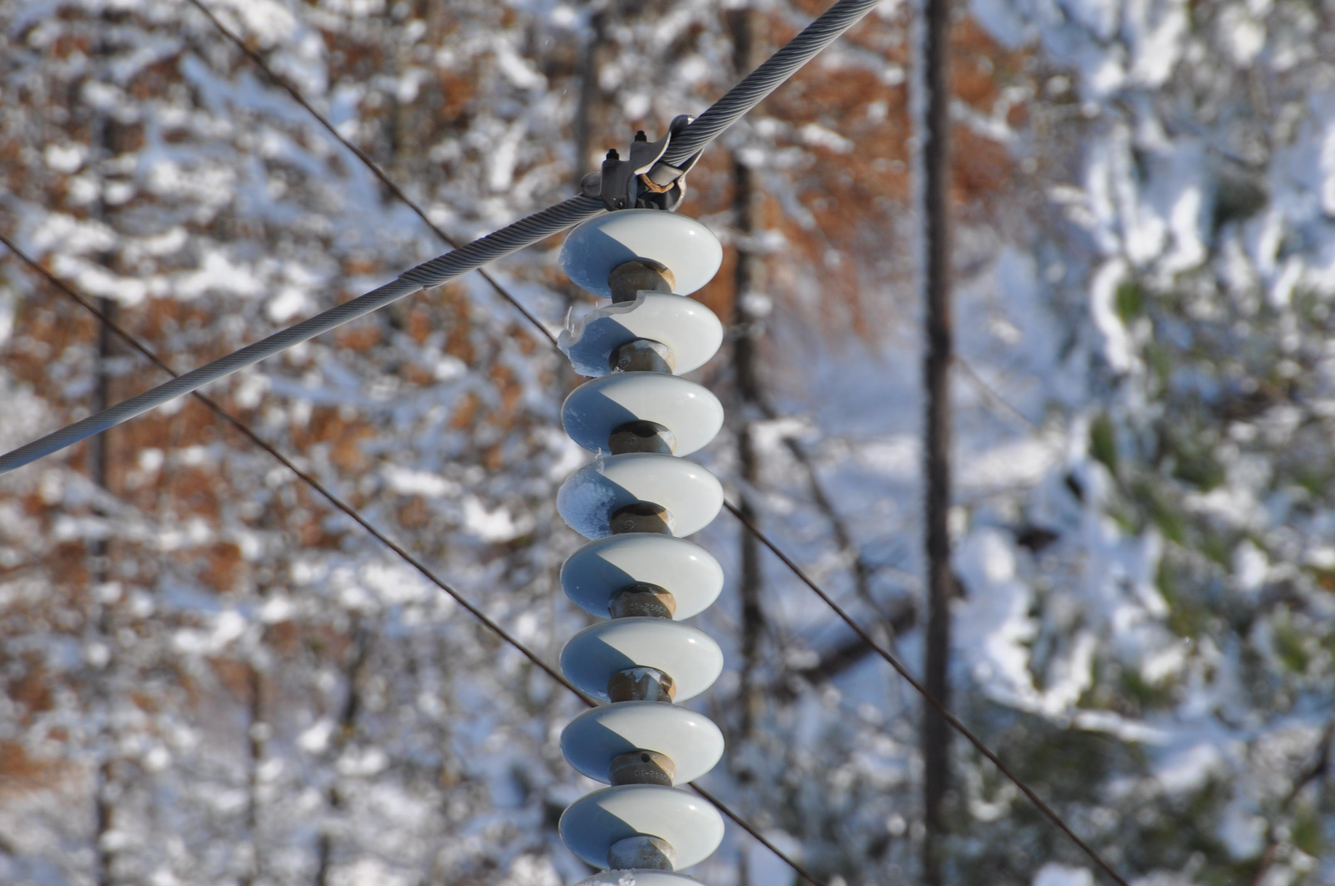damaged: (556, 283, 695, 371)
insulator: (545, 208, 744, 886)
